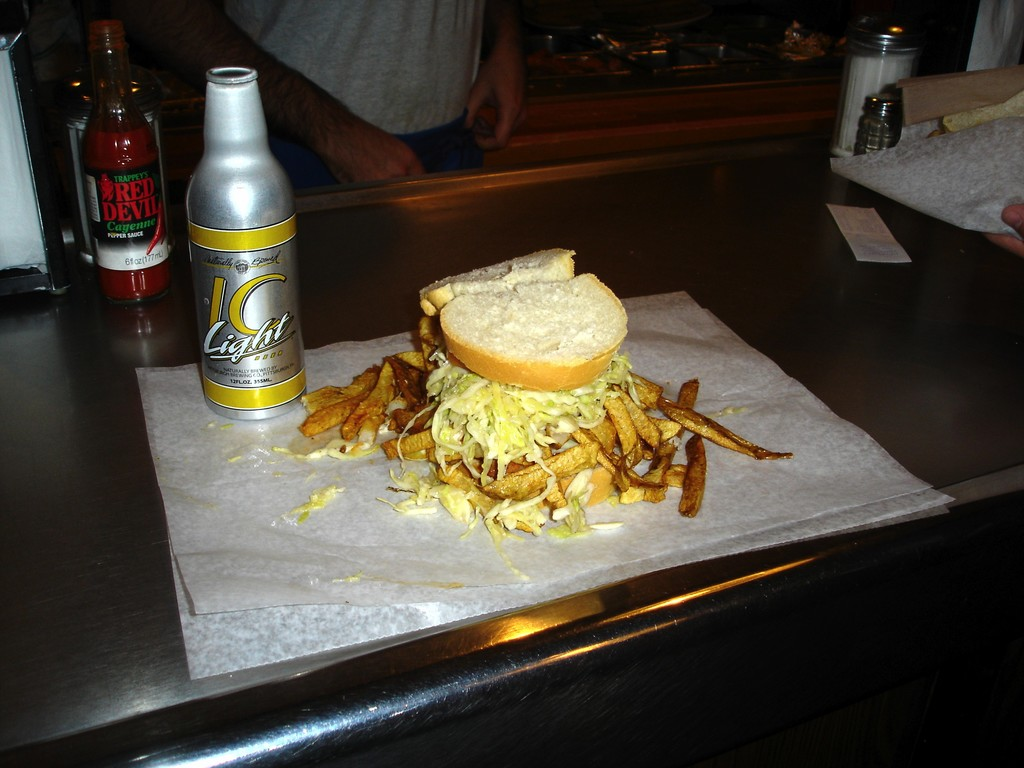Hamburger: (413, 249, 630, 502)
